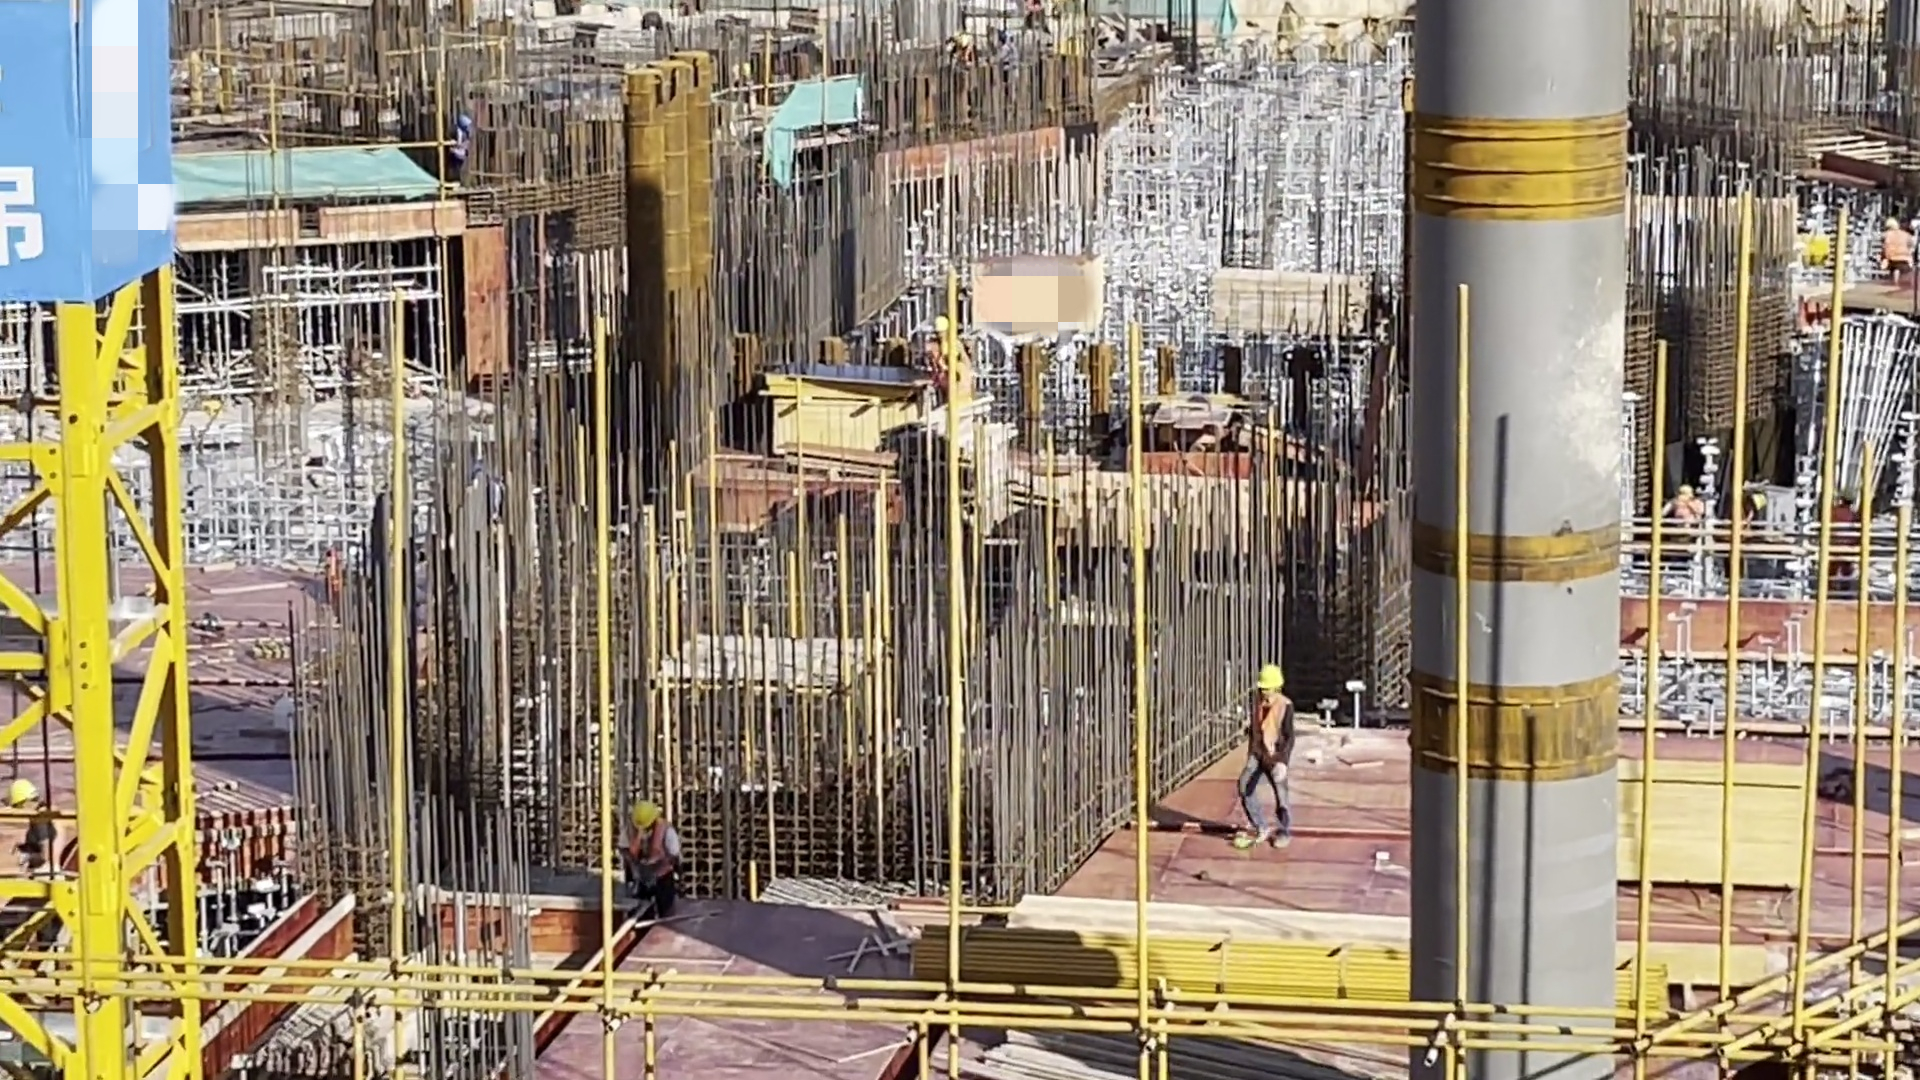helmet: (627, 793, 667, 836), (1251, 662, 1289, 704), (7, 779, 40, 811), (934, 313, 953, 340), (1883, 219, 1912, 235), (459, 114, 471, 128)
person: (1238, 655, 1301, 862), (612, 791, 684, 933), (11, 781, 62, 876), (931, 311, 977, 395), (1881, 219, 1920, 282), (445, 113, 479, 184), (1666, 481, 1704, 533)
vest: (619, 823, 682, 881), (1249, 692, 1289, 772), (1883, 228, 1913, 266), (1671, 498, 1705, 525)
